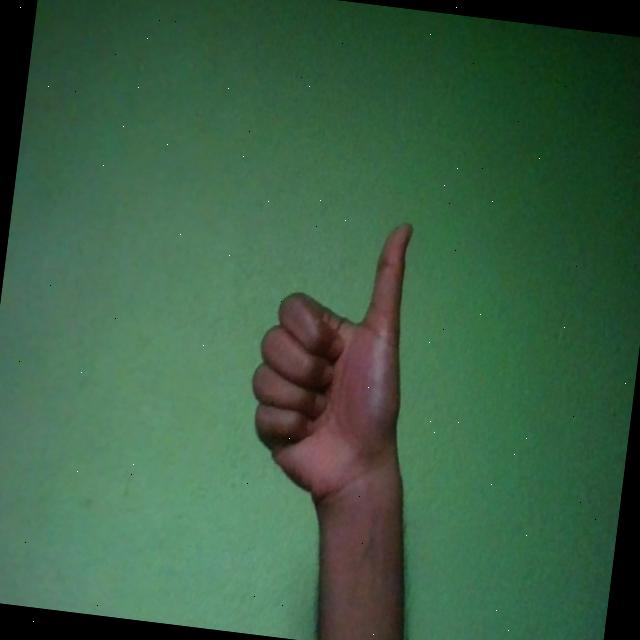Good Job: (236, 205, 424, 518)
